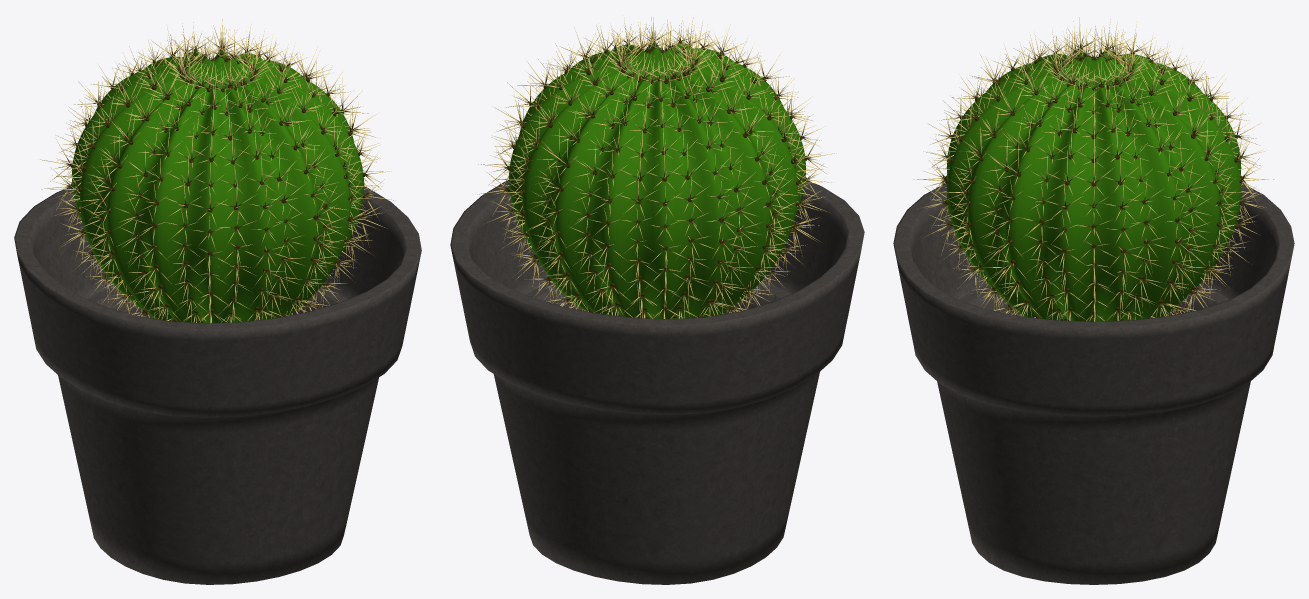
The model's file is PARODIA_LENINGHAUSII_CEMENT_POT.glb.
The picture shows the model from 3 angles, left to right: view 1: azimuth 30°, elevation 25°; view 2: azimuth 150°, elevation 25°; view 3: azimuth 270°, elevation 25°; orthographic projection.
Visible parts, largest first — view 1: Cube, Cactus Ball1; view 2: Cube, Cactus Ball1; view 3: Cube, Cactus Ball1.
Boxes of the visible parts, <box> form: Cube: <box>14,186,421,584</box>; Cactus Ball1: <box>71,50,364,323</box>; Cube: <box>450,180,864,584</box>; Cactus Ball1: <box>509,42,805,319</box>; Cube: <box>893,183,1294,584</box>; Cactus Ball1: <box>946,50,1241,321</box>.
Bounding box in the file's own units: 1.02 × 1.39 × 1.02.
Materials: 3 (2 with a texture image).
